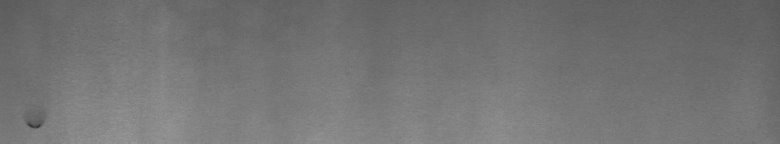fi: (24, 117, 45, 136)
